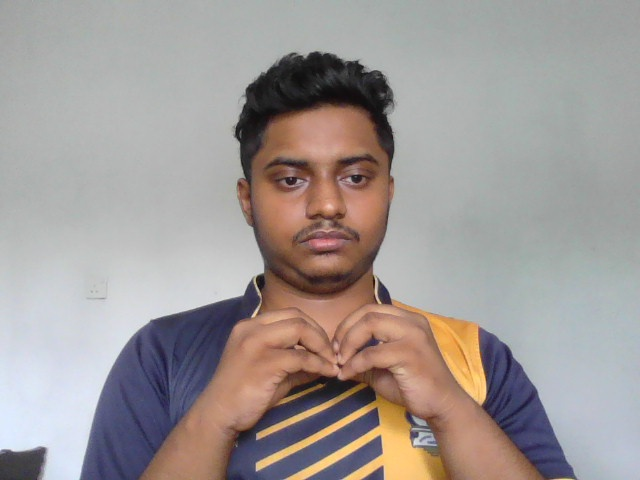More: (213, 304, 456, 434)
